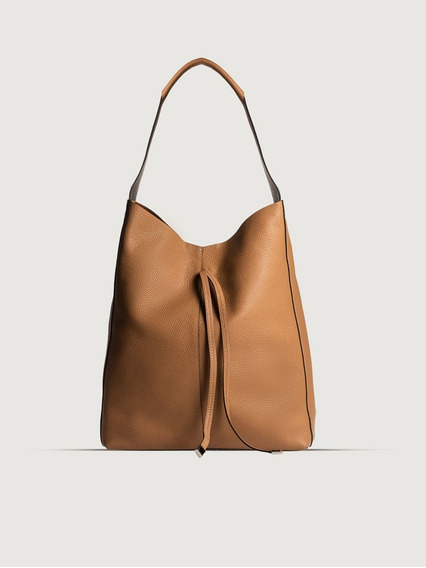cartera: (97, 56, 315, 454)
